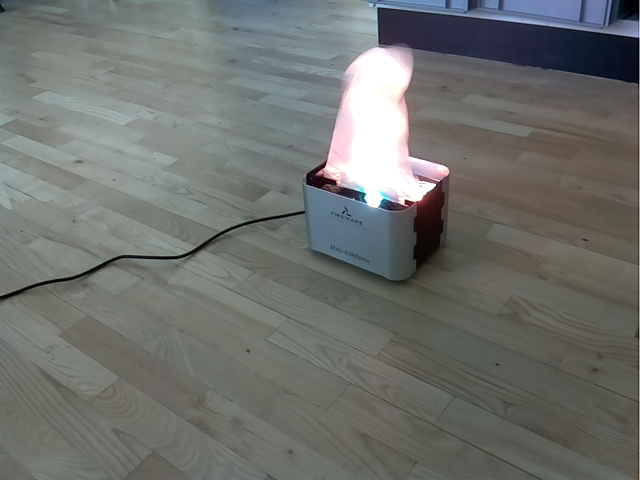fire: (314, 42, 425, 207)
